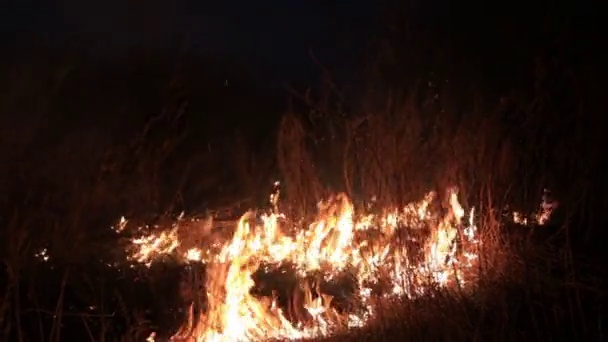fire: (179, 188, 477, 342), (131, 222, 179, 261), (537, 207, 552, 222), (115, 216, 126, 231), (512, 212, 520, 223)
